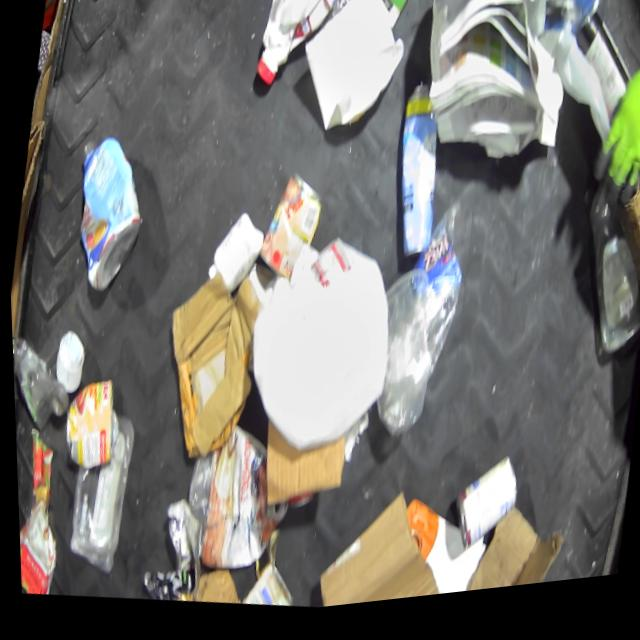can: (380, 84, 456, 271), (249, 169, 328, 291), (444, 458, 522, 566), (51, 370, 124, 482), (233, 558, 294, 617)
milk_jug: (229, 227, 406, 477)
non_white_jug: (249, 0, 352, 105)
plastic_bottle: (563, 192, 640, 376)
